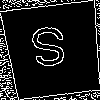S: (28, 25, 70, 76)
